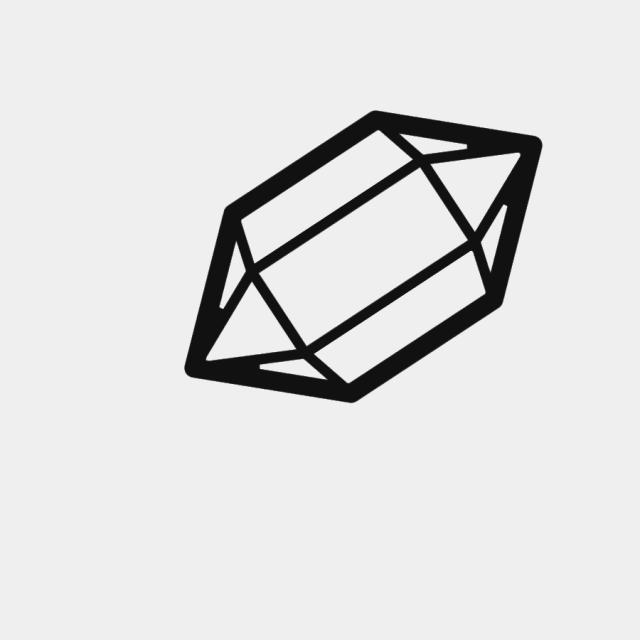crystal: (175, 101, 553, 415)
